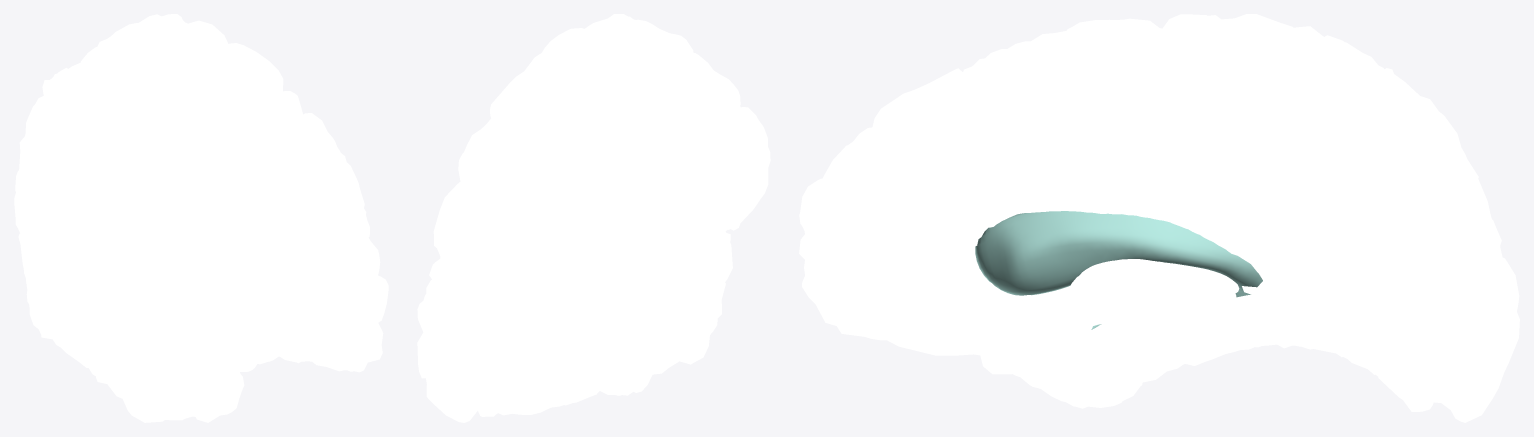
Rendered from right-cerebal-hemisphere.glb.
3 views of the same model, side by side, from view 1: azimuth 30°, elevation 25°; view 2: azimuth 150°, elevation 25°; view 3: azimuth 270°, elevation 25° (orthographic). The views are drawn at different scales.
Parts seen in each view (by area): view 1: Middle frontal gyrus.r, Superior frontal gyrus.r, Precentral gyrus.r, Postcentral gyrus.r, Middle temporal gyrus.r, Superior temporal gyrus (Lateral part).r, Supramarginal gyrus.r, Orbital gyri (Frontomarginal gyrus and sulcus*).r, Triangular part of inferior frontal gyrus.r, Inferior frontal sulcus.r, Insula (Subcentral gyrus and ant. and post. sulci*).r, Temporal pole.r (+14 smaller); view 2: Angular gyrus.r, Superior parietal lobule.r, Postcentral gyrus.r, Supramarginal gyrus.r, Lateral occipital gyrus (Middle occipital gyrus*).r, Precentral gyrus.r, Middle temporal gyrus.r, Middle frontal gyrus.r, Inferior temporal gyrus.r, Occipital pole.r, Superior frontal gyrus.r, Superior occipital gyri.r (+16 smaller); view 3: Superior frontal gyrus.r, Precuneus.r, White matter of telencephalon.r, Lateral ventricle.r, Lingual gyrus.r, Straight gyrus (Gyrus rectus).r, Paracentral gyrus and sulcus*.r, Cuneus.r, Medial occipitotemporal gyrus (Parahippocampal*).r, Cingulate gyrus and sulcus (Middle anterior part).r, Cingulate gyrus and sulcus (Posterior dorsal part).r, Superior parietal lobule.r (+16 smaller).
Boxes of the visible parts, x1,y1,x2,y2 form: Middle frontal gyrus.r: (152, 87, 346, 343); Superior frontal gyrus.r: (207, 43, 388, 312); Precentral gyrus.r: (100, 36, 215, 276); Postcentral gyrus.r: (63, 23, 175, 241); Middle temporal gyrus.r: (14, 193, 182, 413); Superior temporal gyrus (Lateral part).r: (25, 208, 205, 389); Supramarginal gyrus.r: (15, 82, 90, 239); Orbital gyri (Frontomarginal gyrus and sulcus*).r: (245, 300, 372, 362); Triangular part of inferior frontal gyrus.r: (157, 229, 209, 340); Inferior frontal sulcus.r: (155, 195, 253, 310); Insula (Subcentral gyrus and ant. and post. sulci*).r: (64, 229, 140, 298); Temporal pole.r: (158, 365, 244, 422); Angular gyrus.r: (473, 164, 627, 300); Superior parietal lobule.r: (442, 111, 579, 251); Postcentral gyrus.r: (534, 82, 713, 217); Supramarginal gyrus.r: (573, 158, 709, 288); Lateral occipital gyrus (Middle occipital gyrus*).r: (474, 284, 574, 403); Precentral gyrus.r: (551, 52, 736, 214); Middle temporal gyrus.r: (567, 276, 725, 363); Middle frontal gyrus.r: (613, 50, 770, 167); Inferior temporal gyrus.r: (571, 324, 713, 395); Occipital pole.r: (426, 340, 510, 422); Superior frontal gyrus.r: (542, 14, 693, 68); Superior occipital gyri.r: (431, 237, 506, 356); Superior frontal gyrus.r: (799, 19, 1254, 294); Precuneus.r: (1257, 44, 1472, 311); White matter of telencephalon.r: (868, 156, 1281, 357); Lateral ventricle.r: (975, 211, 1262, 329); Lingual gyrus.r: (1275, 304, 1508, 411); Straight gyrus (Gyrus rectus).r: (802, 265, 1056, 356); Paracentral gyrus and sulcus*.r: (1187, 19, 1330, 145); Cuneus.r: (1322, 230, 1519, 332); Medial occipitotemporal gyrus (Parahippocampal*).r: (1059, 301, 1277, 408); Cingulate gyrus and sulcus (Middle anterior part).r: (983, 119, 1129, 218); Cingulate gyrus and sulcus (Posterior dorsal part).r: (1204, 146, 1311, 263); Superior parietal lobule.r: (1324, 35, 1472, 184).
Size of the model in its own units: 0.0689 by 0.1178 by 0.1807.
